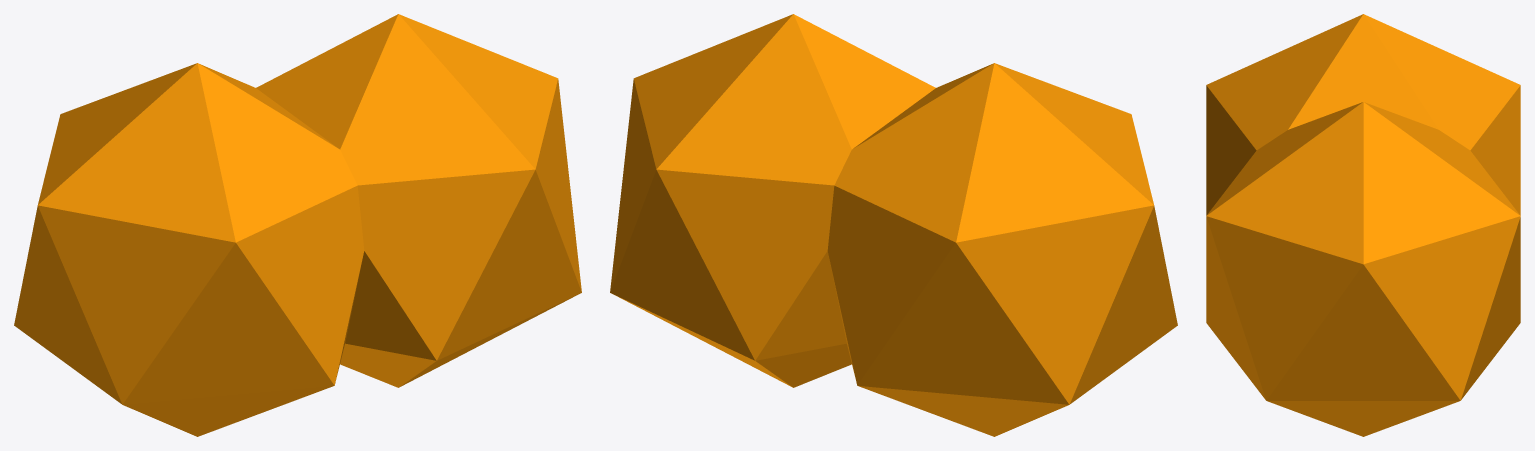
File: flower-1.fbx
The picture shows the model from 3 angles, left to right: view 1: azimuth 30°, elevation 25°; view 2: azimuth 150°, elevation 25°; view 3: azimuth 270°, elevation 25°; orthographic projection. The views are drawn at different scales.
Parts seen in each view (by area): view 1: 아이코스피어.001; view 2: 아이코스피어.001; view 3: 아이코스피어.001.
Part boxes in pixels (<box>): 아이코스피어.001: <box>14,14,581,436</box>; 아이코스피어.001: <box>610,14,1177,436</box>; 아이코스피어.001: <box>1206,14,1520,436</box>.
Bounding box in the file's own units: 362 × 249 × 212.
